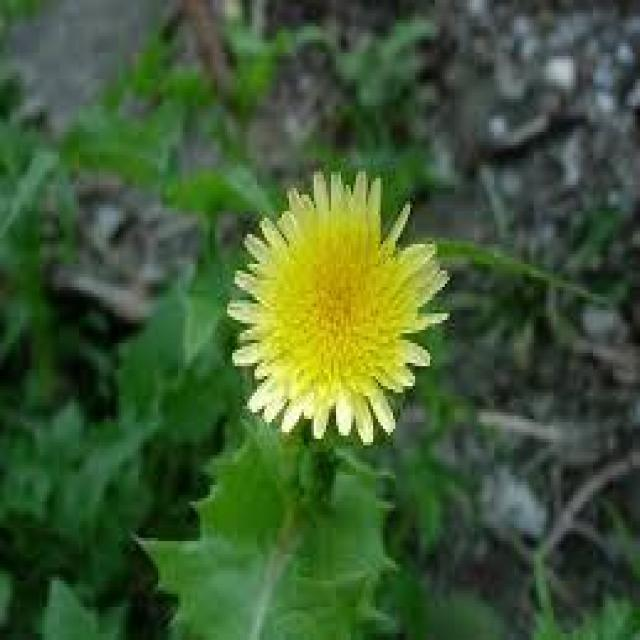organic waste: (228, 160, 461, 447)
